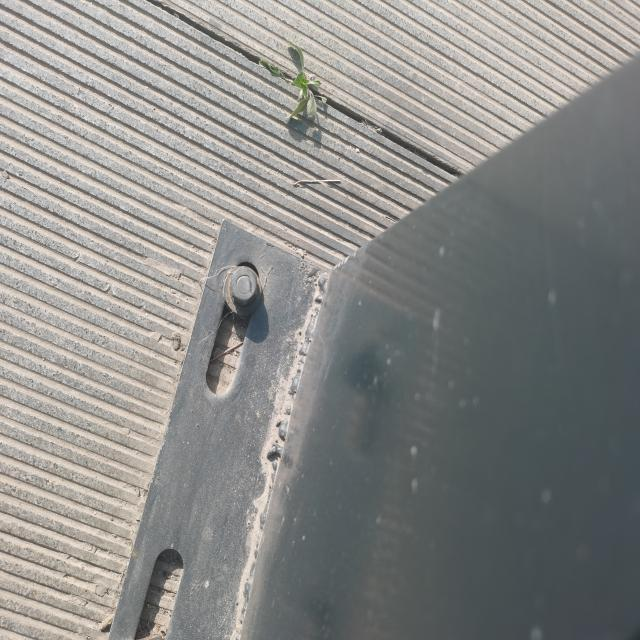Regular bolt: (231, 269, 258, 308)
